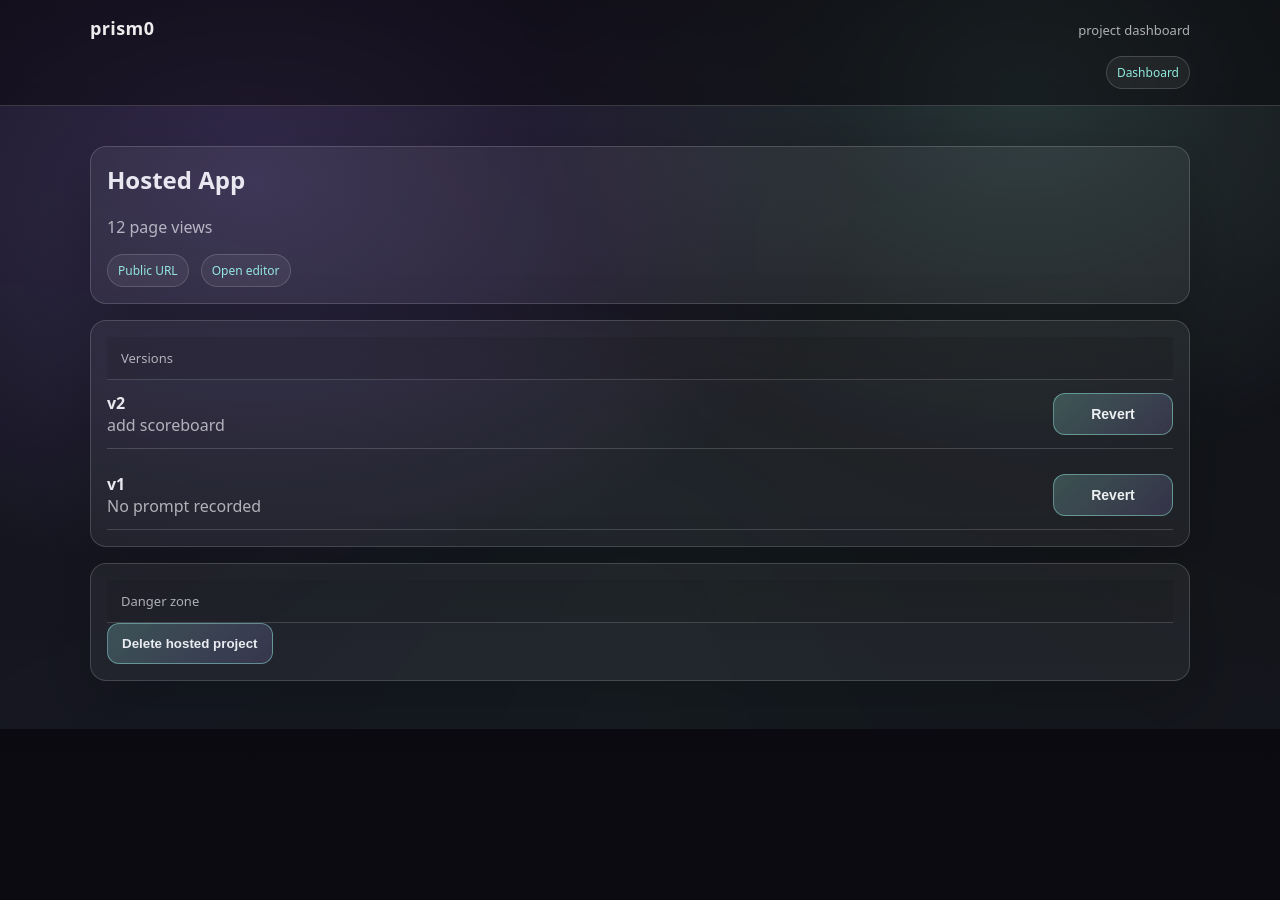
Test: ProjectManagePage › reverts to a selected version
Expected: the heading "Hosted App" is shown, [107,163,245,196]
Click the button "Revert" in the row of "add scoreboard": x=1113, y=414 [1053,393,1173,435]
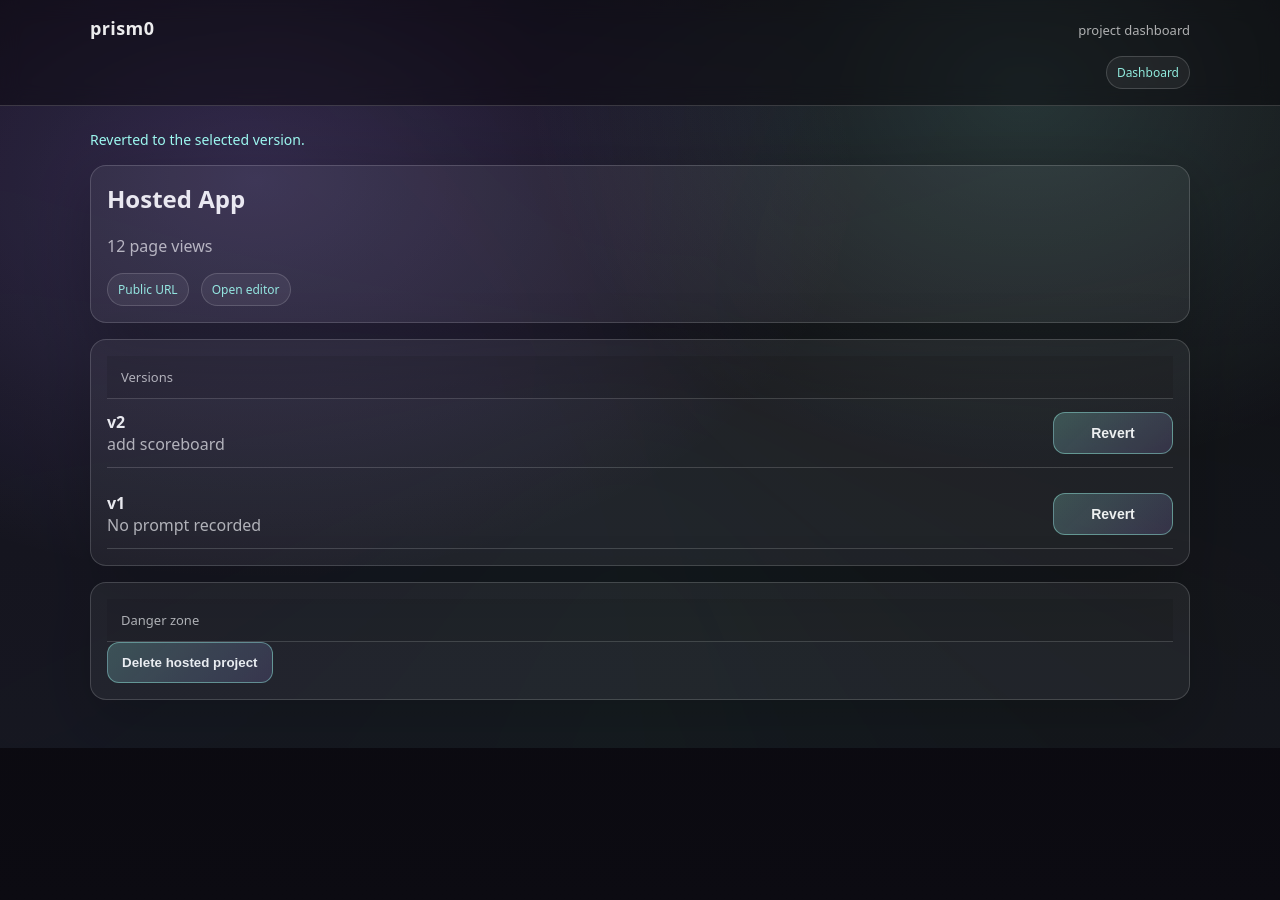
Result: the text "Reverted to the selected version." is shown at [90,130,305,149]
